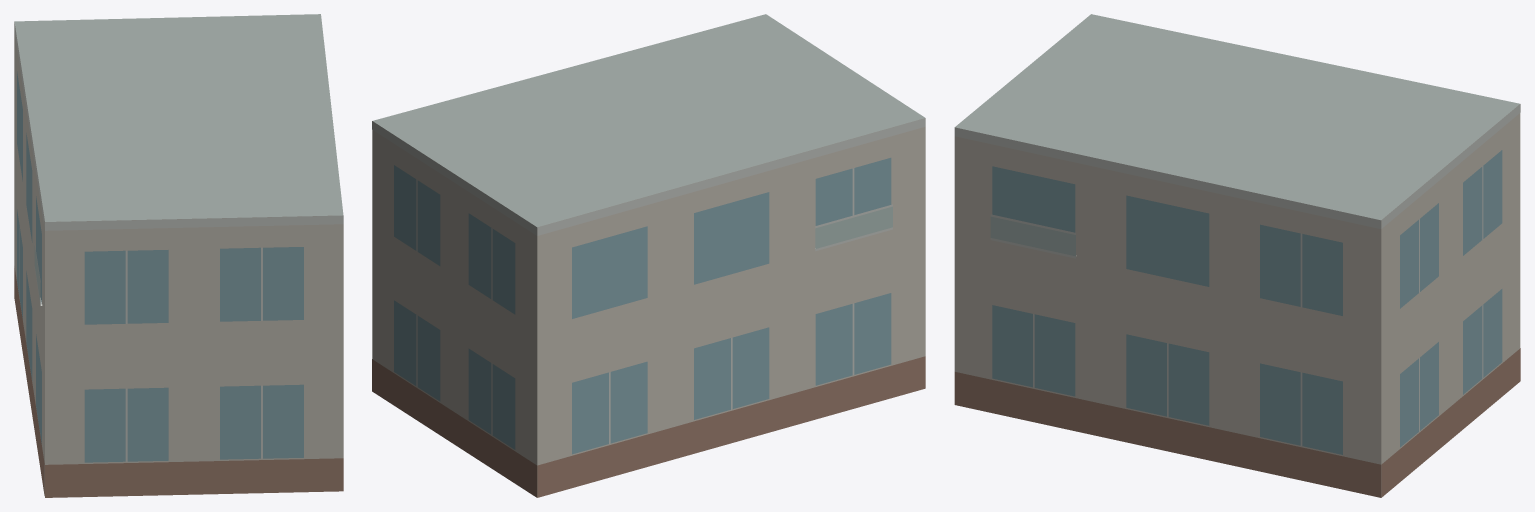
File: survey-upis-32719610.glb
3 views of the same model, side by side, from view 1: azimuth 30°, elevation 25°; view 2: azimuth 150°, elevation 25°; view 3: azimuth 270°, elevation 25° (orthographic). The views are drawn at different scales.
Parts seen in each view (by area): view 1: survey-upis-32719610.tmp; view 2: survey-upis-32719610.tmp; view 3: survey-upis-32719610.tmp.
Boxes of the visible parts, <box> form: survey-upis-32719610.tmp: <box>14,14,343,497</box>; survey-upis-32719610.tmp: <box>372,14,925,497</box>; survey-upis-32719610.tmp: <box>954,14,1520,497</box>.
Bounding box in the file's own units: 12.12 × 7.6 × 14.05.
